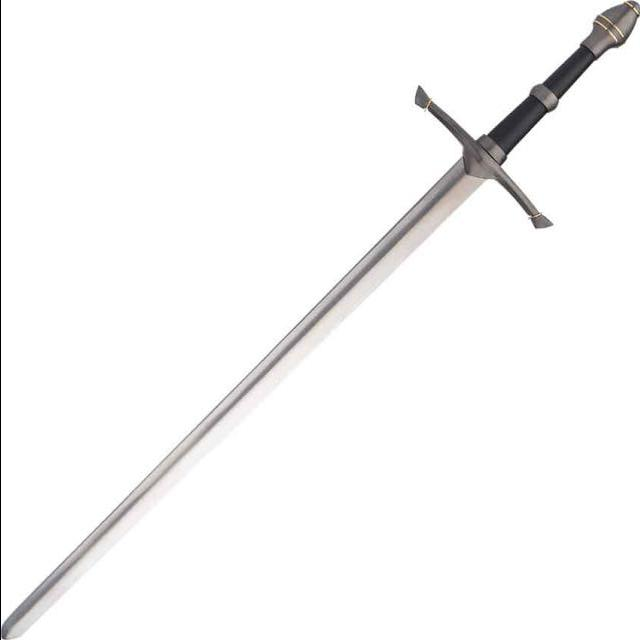sword: (1, 3, 640, 640)
